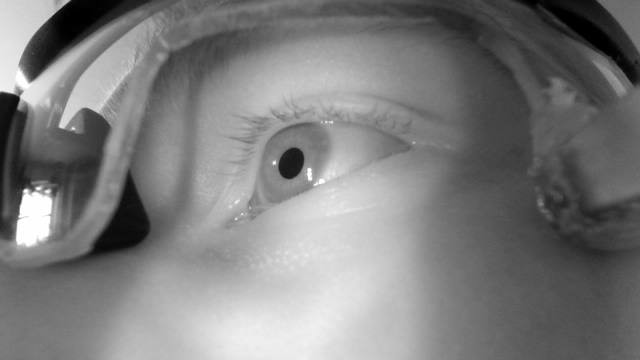pupil: (278, 147, 305, 180)
